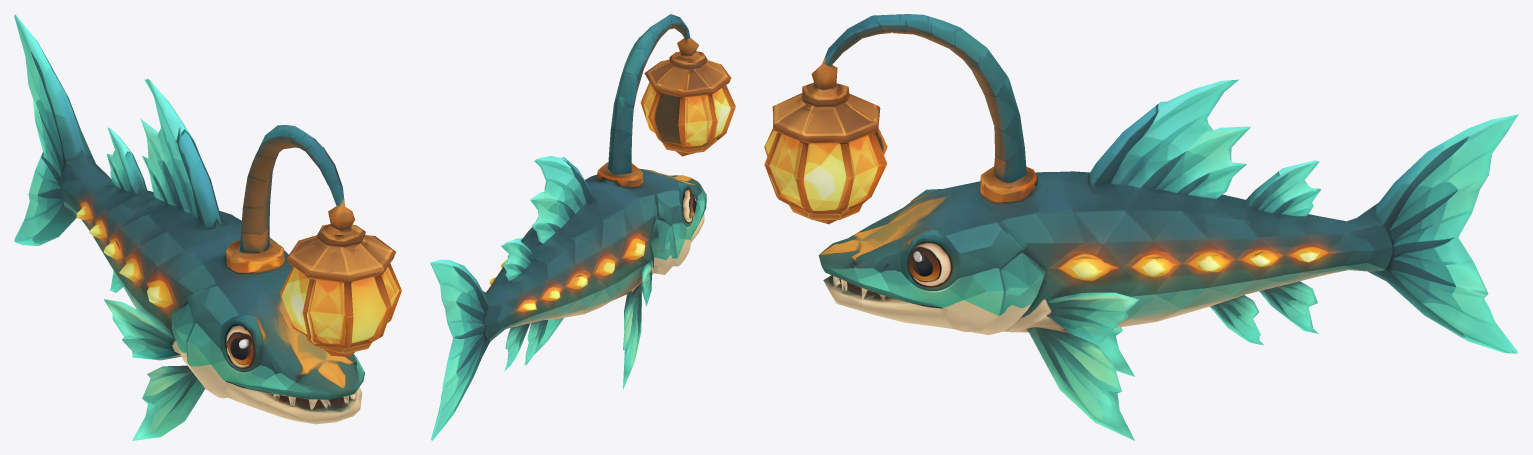
File: lampjaw.glb
3 renders of one model, left to right at view 1: azimuth 30°, elevation 25°; view 2: azimuth 150°, elevation 25°; view 3: azimuth 270°, elevation 25°, orthographic. The views are drawn at different scales.
Parts seen in each view (by area): view 1: tripo_node_100cd8b9-ae83-4584-aae2-7a7dbd071154; view 2: tripo_node_100cd8b9-ae83-4584-aae2-7a7dbd071154; view 3: tripo_node_100cd8b9-ae83-4584-aae2-7a7dbd071154.
Boxes of the visible parts, x1,y1,x2,y2 form: tripo_node_100cd8b9-ae83-4584-aae2-7a7dbd071154: (14,14,401,440); tripo_node_100cd8b9-ae83-4584-aae2-7a7dbd071154: (430,14,735,440); tripo_node_100cd8b9-ae83-4584-aae2-7a7dbd071154: (764,14,1518,440).
Bounding box in the file's own units: 0.2915 × 0.5786 × 1.
1 material, 1 textured.
